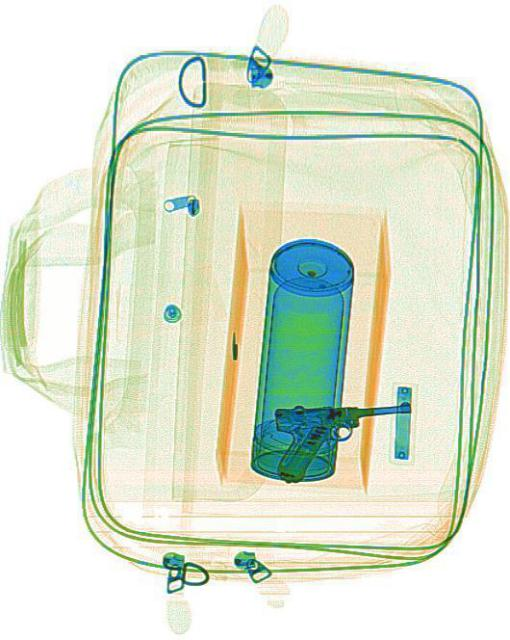Gun: (273, 396, 412, 482)
